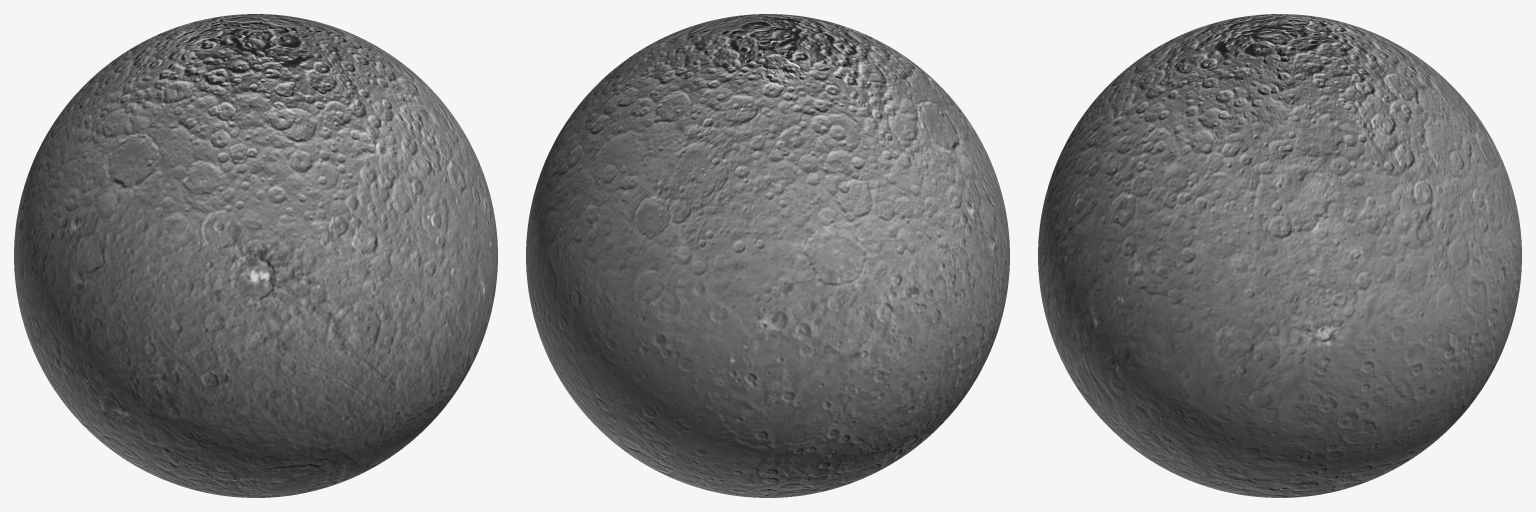
Rendered from ceres.glb.
3 renders of one model, left to right at view 1: azimuth 30°, elevation 25°; view 2: azimuth 150°, elevation 25°; view 3: azimuth 270°, elevation 25°, orthographic.
Parts seen in each view (by area): view 1: Geode; view 2: Geode; view 3: Geode.
Part boxes in pixels (x1,y1,x2,y2): Geode: (14, 14, 497, 497); Geode: (526, 14, 1009, 497); Geode: (1038, 14, 1521, 497).
Bounding box in the file's own units: 200 × 200 × 200.
1 material, 1 textured.
